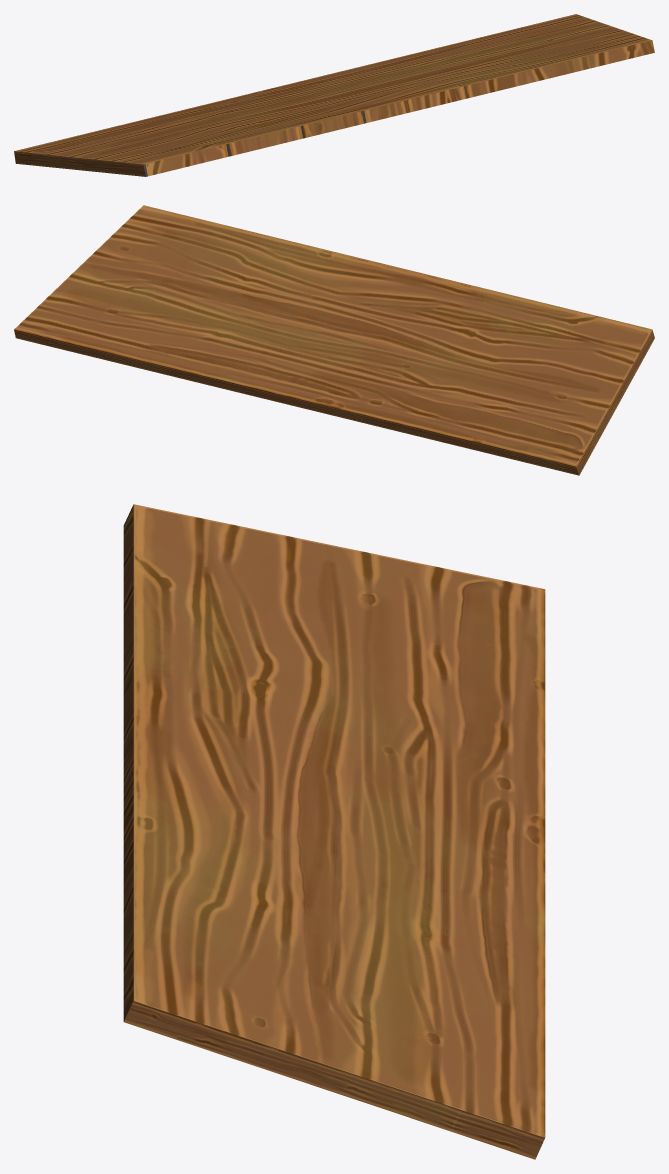
3 renders of one model, top to bottom at view 1: azimuth 30°, elevation 25°; view 2: azimuth 150°, elevation 25°; view 3: azimuth 270°, elevation 25°, orthographic. The views are drawn at different scales.
Visible parts, largest first — view 1: Cube.1509; view 2: Cube.1509; view 3: Cube.1509.
Boxes of the visible parts, <box> form: Cube.1509: <box>14,14,654,176</box>; Cube.1509: <box>14,205,654,475</box>; Cube.1509: <box>123,504,545,1159</box>.
Bounding box in the file's own units: 855 × 95.92 × 277.
1 material, 1 textured.
